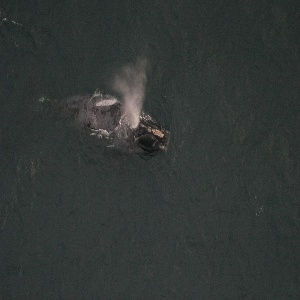cetacean: (41, 92, 171, 158)
